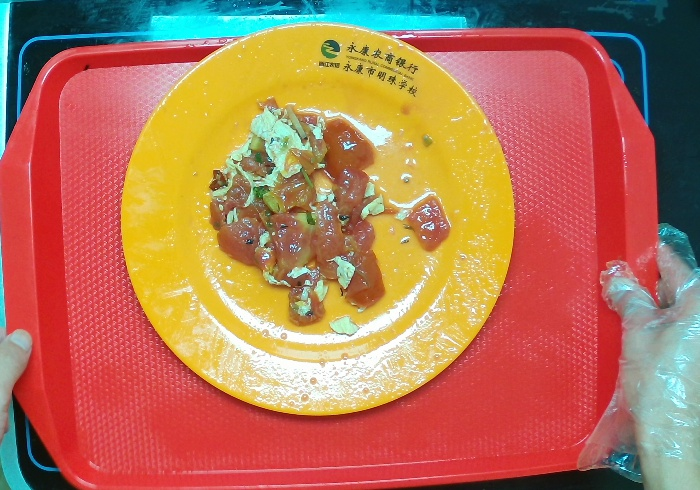YKMZ-Ju_Se_Mian_Pan: (110, 8, 525, 428)
